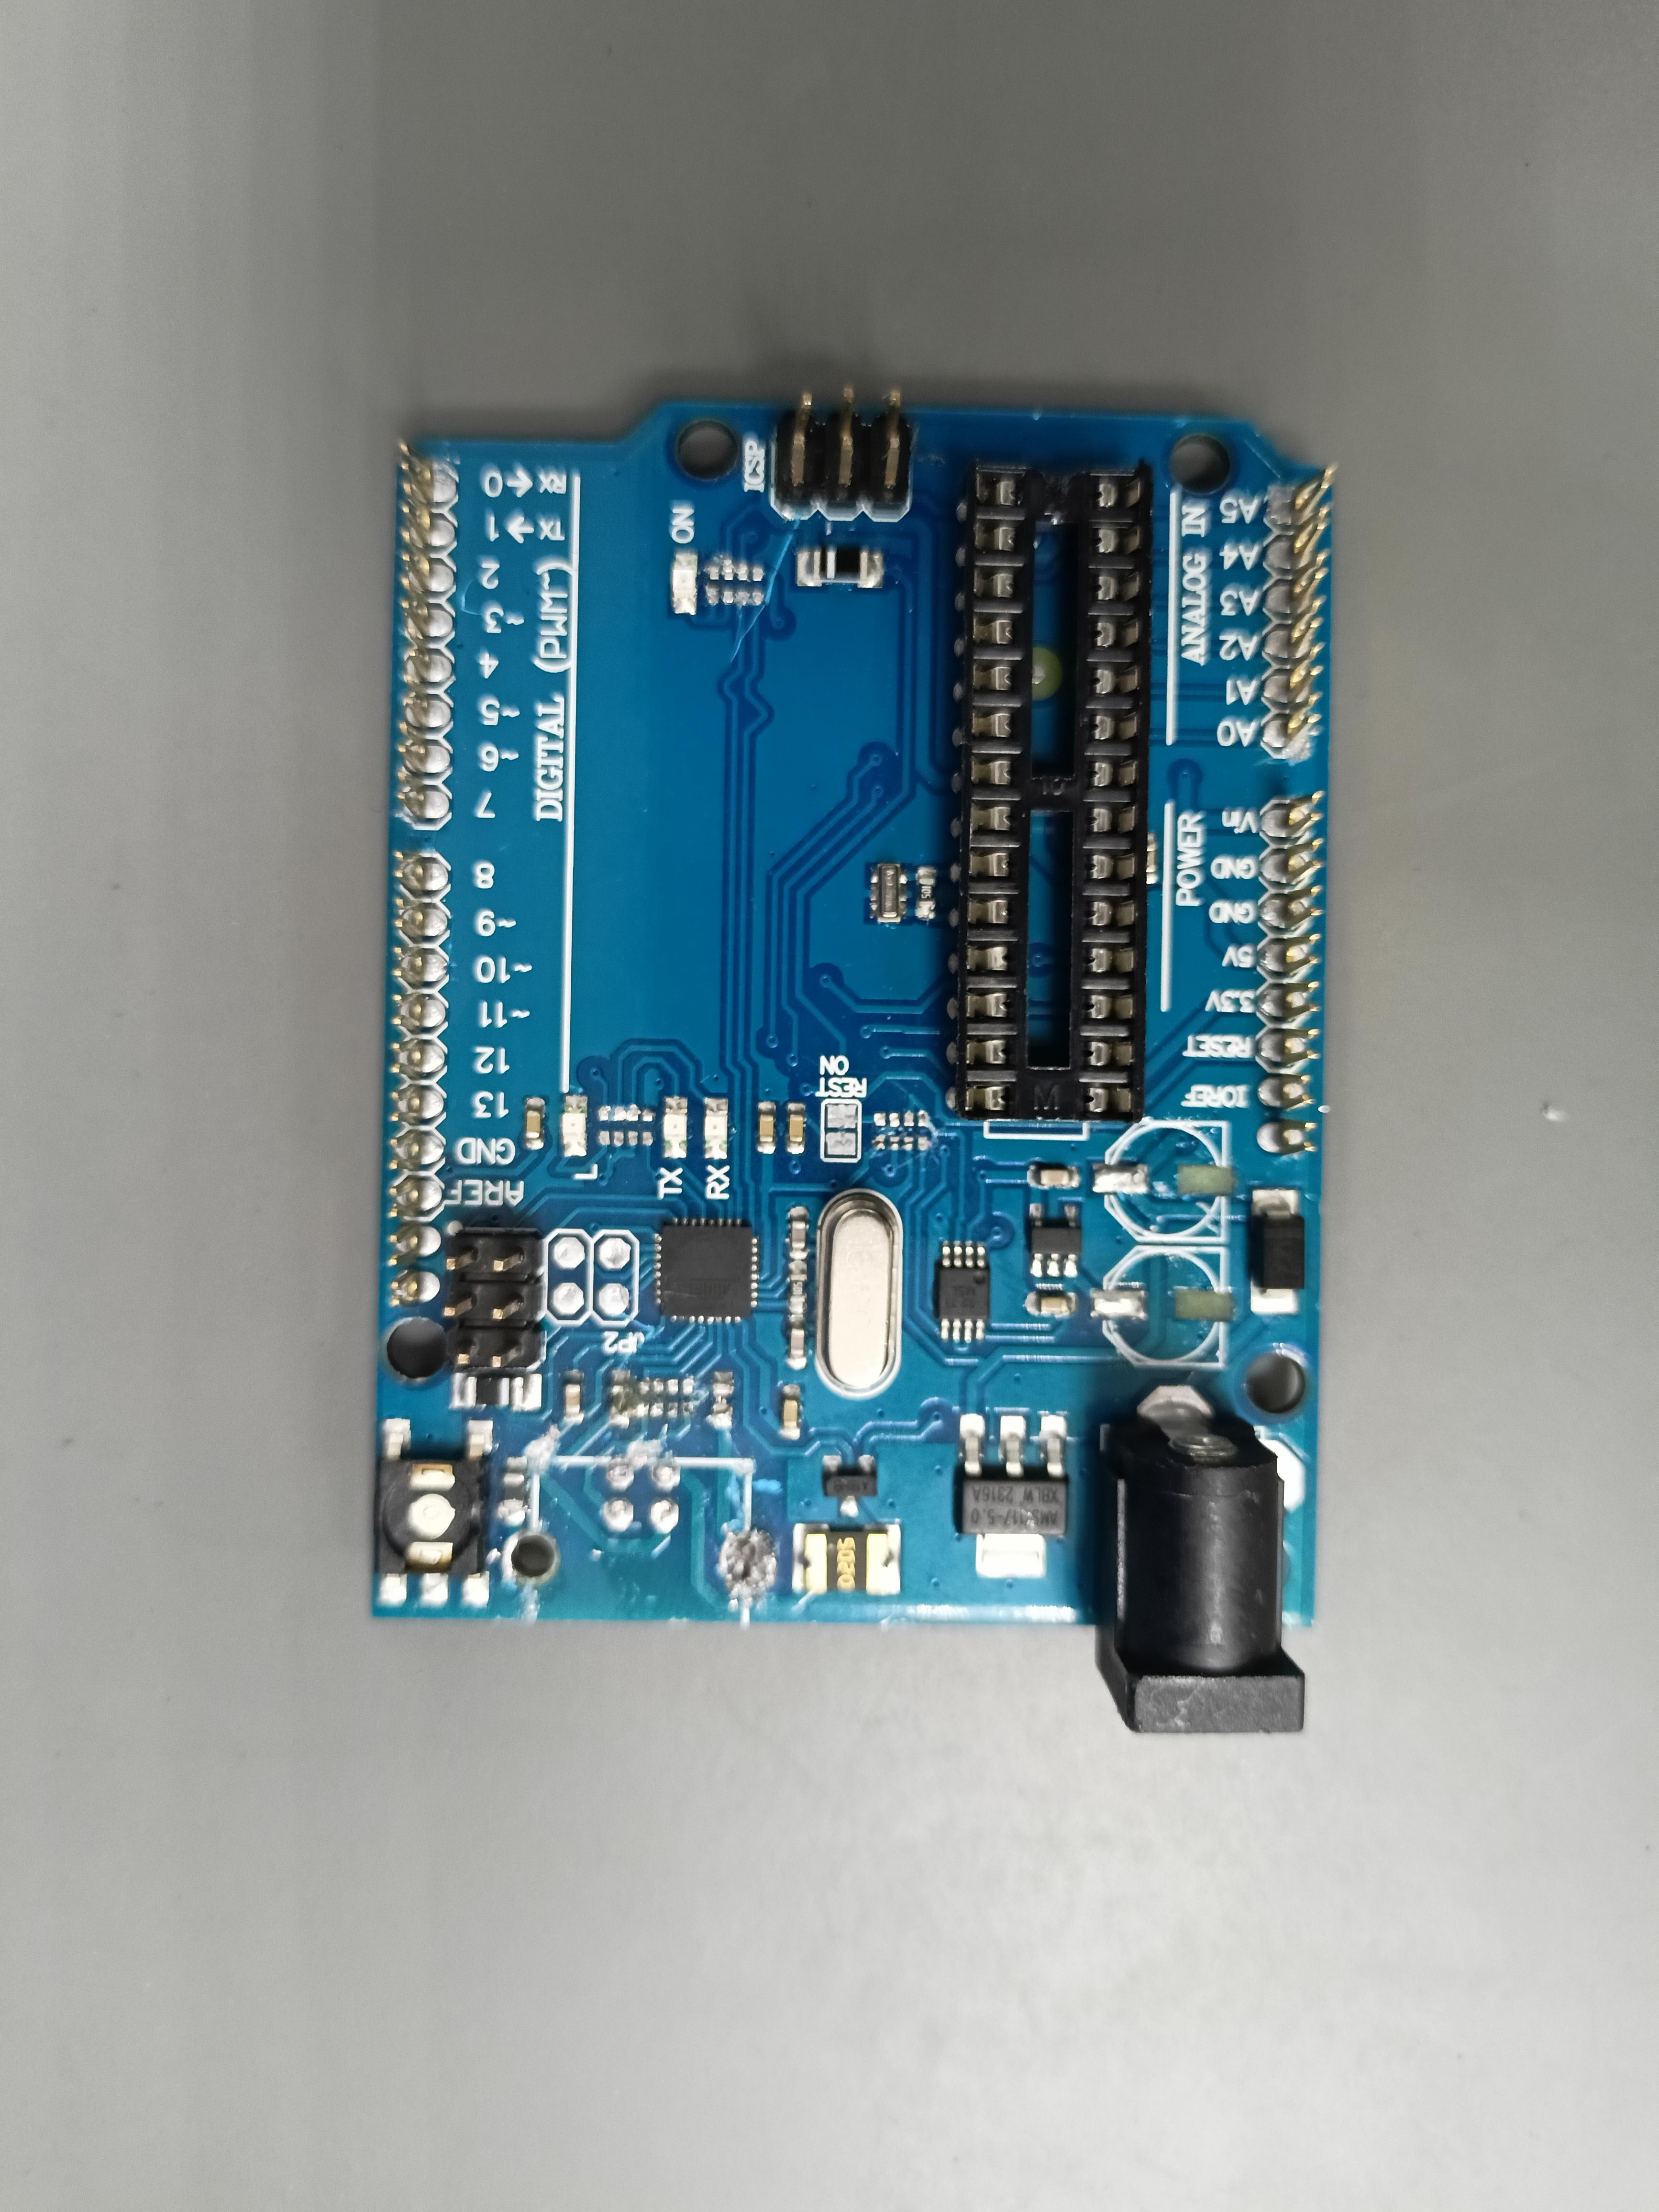Arduino board: (368, 387, 1337, 1735)
